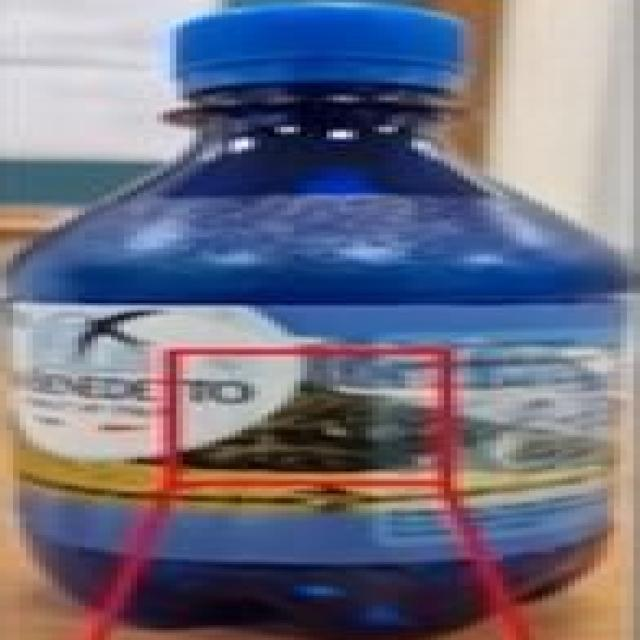hidden camera: (312, 425, 361, 440)
